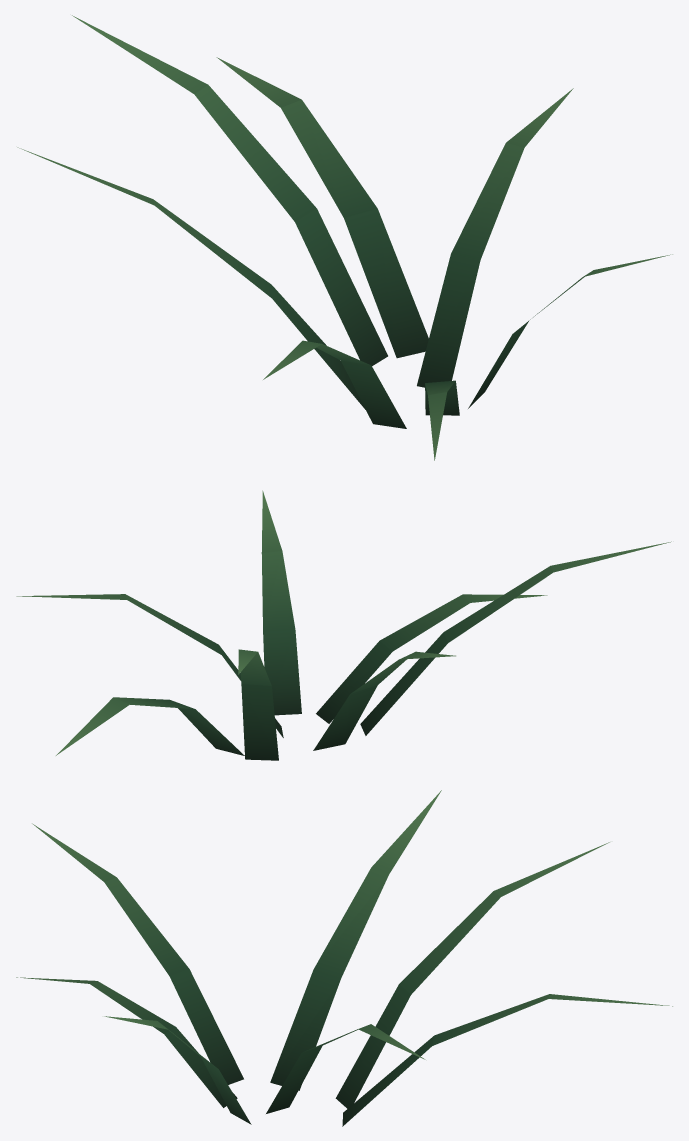
Rendered from grass_shade_dark_01.glb.
3 views of the same model, one above another, from view 1: azimuth 30°, elevation 25°; view 2: azimuth 150°, elevation 25°; view 3: azimuth 270°, elevation 25° (orthographic). The views are drawn at different scales.
Visible parts, largest first — view 1: grass_shade_dark_01_mesh; view 2: grass_shade_dark_01_mesh; view 3: grass_shade_dark_01_mesh.
Boxes of the visible parts, x1,y1,x2,y2 form: grass_shade_dark_01_mesh: (17,15,672,460); grass_shade_dark_01_mesh: (16,490,671,760); grass_shade_dark_01_mesh: (16,790,672,1126).
Size of the model in its own units: 0.5716 by 0.2546 by 0.7282.
